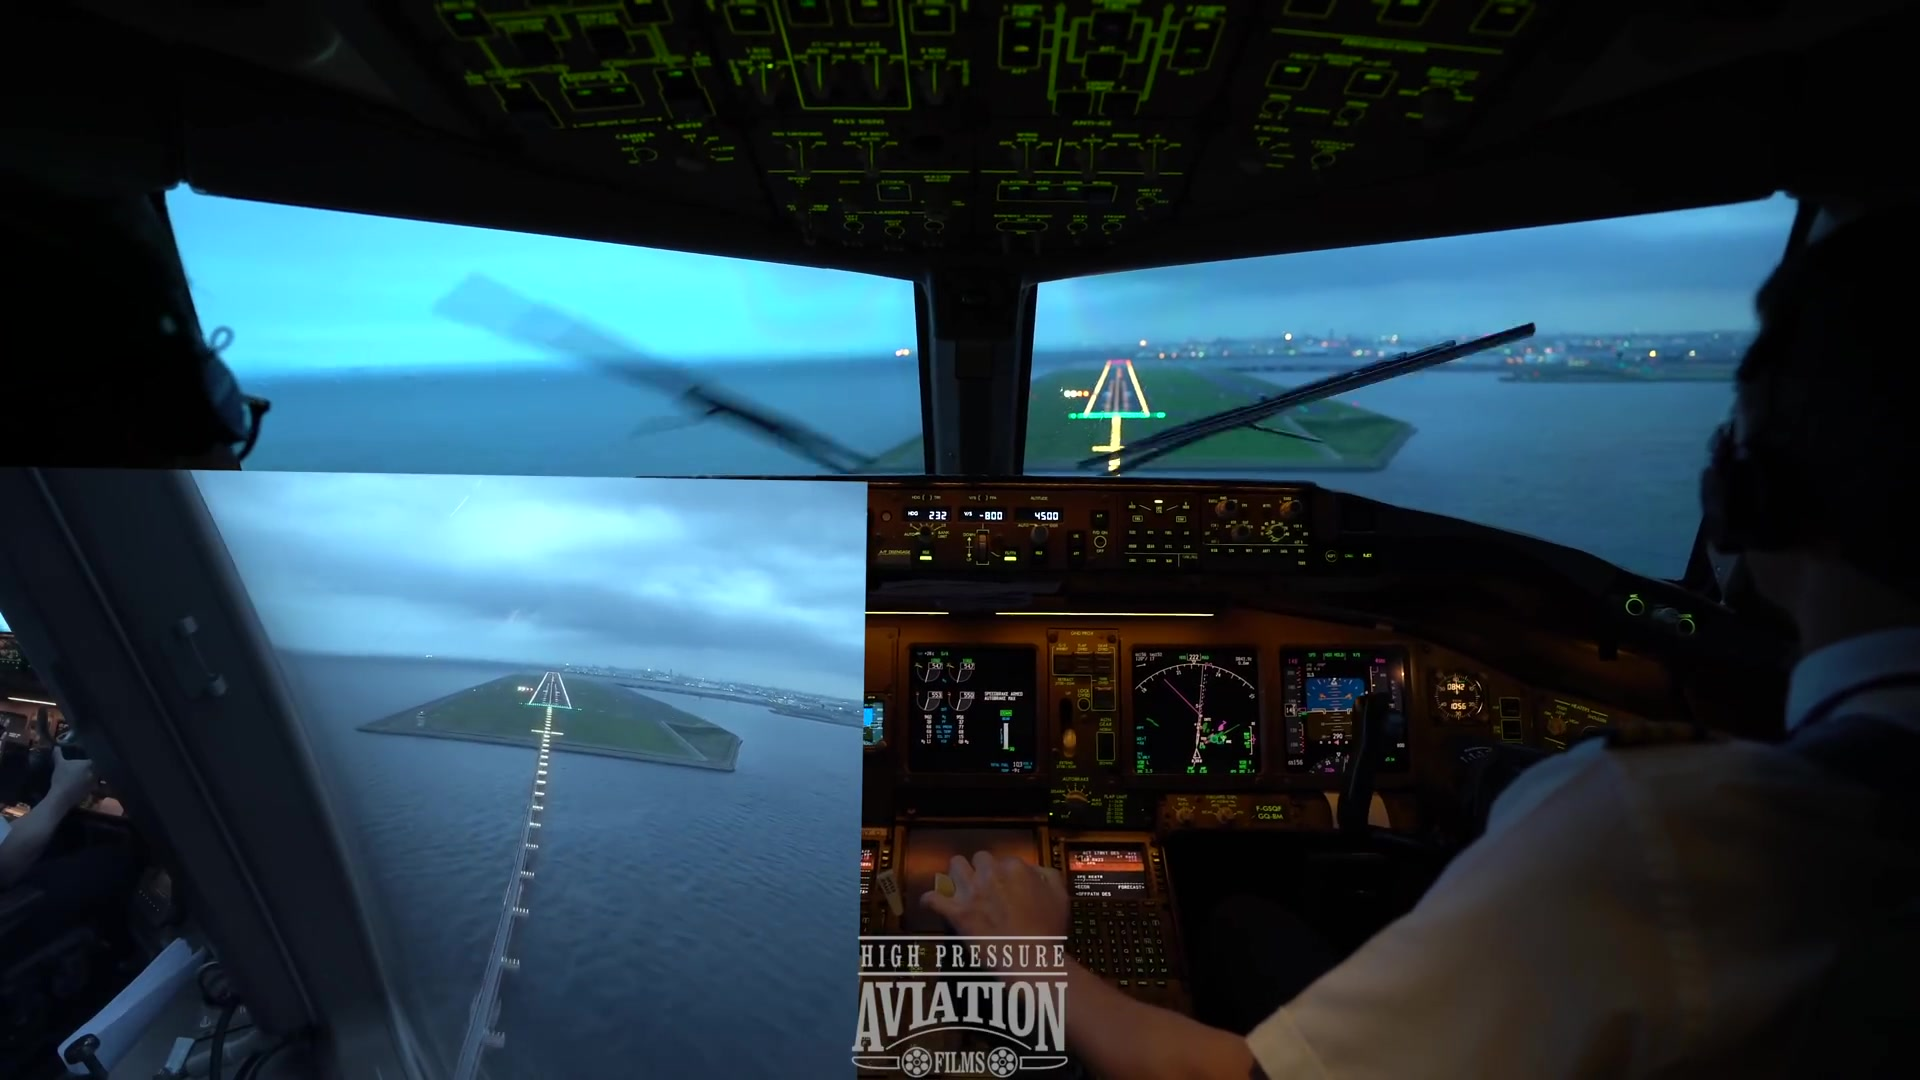runway: (1079, 359, 1150, 423), (526, 667, 574, 709)
